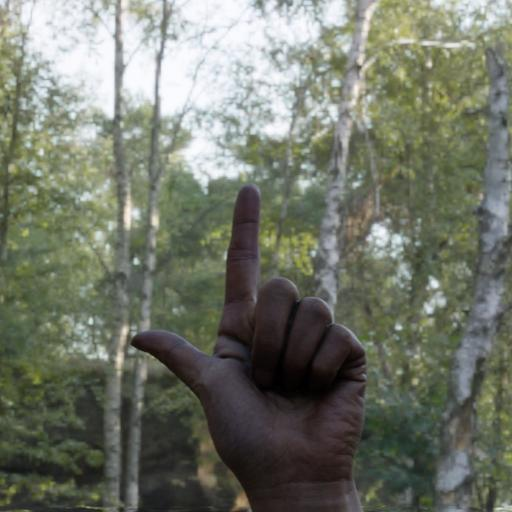L: (116, 182, 388, 500)
